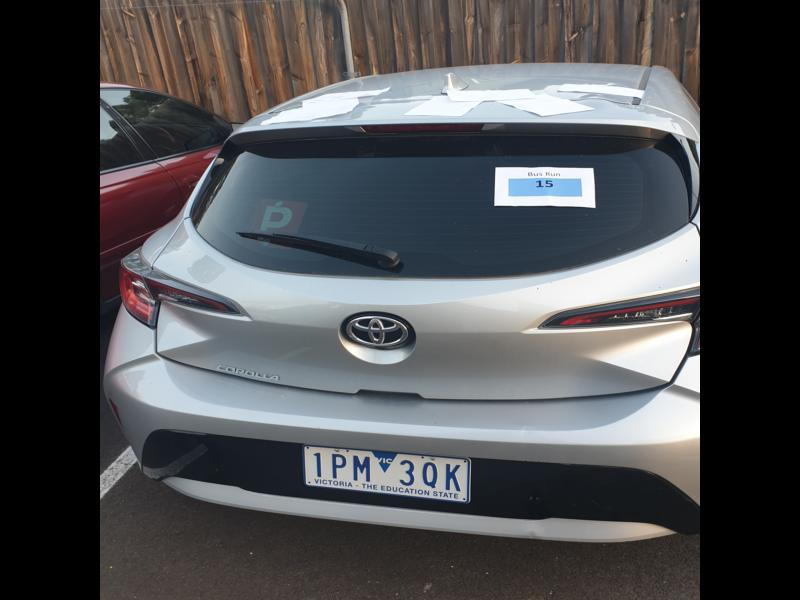BusRun: (508, 178, 582, 197)
PlateNo: (302, 443, 470, 502)
